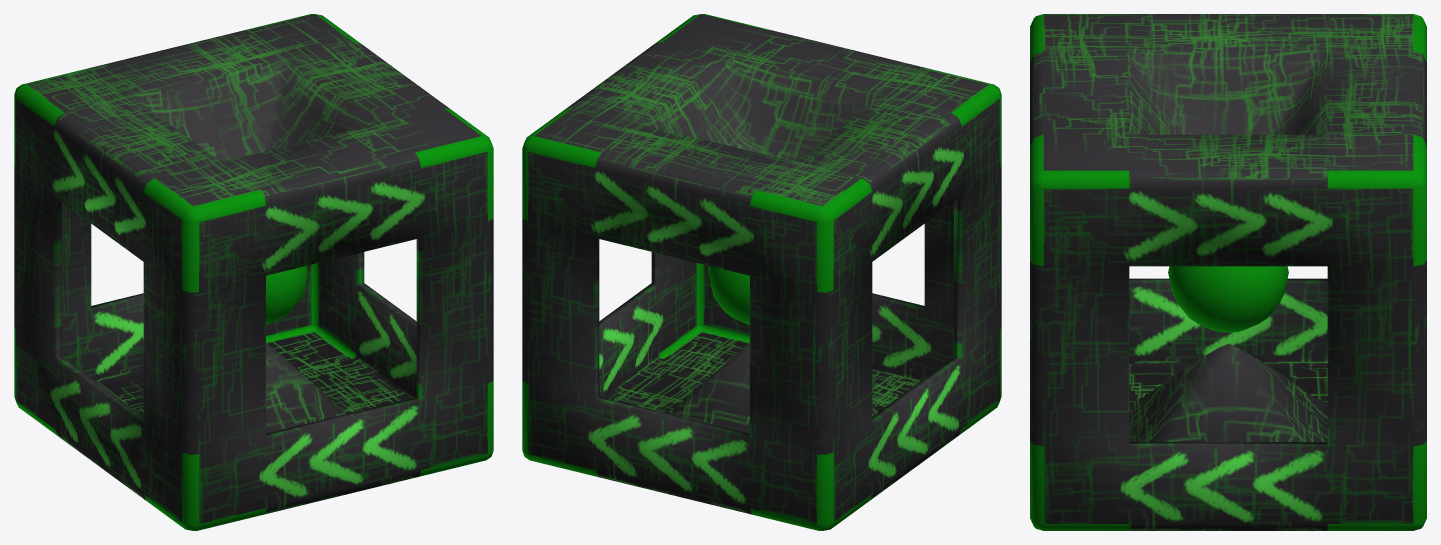
File: Green_Cube 1.fbx
The picture shows the model from 3 angles, left to right: view 1: azimuth 30°, elevation 25°; view 2: azimuth 150°, elevation 25°; view 3: azimuth 270°, elevation 25°; orthographic projection. The views are drawn at different scales.
Parts seen in each view (by area): view 1: Green_cube.001, Green_cube; view 2: Green_cube.001, Green_cube; view 3: Green_cube.001, Green_cube.
Part boxes in pixels (box(x1,y1,x2,y2)): Green_cube.001: box(14, 14, 493, 530); Green_cube: box(266, 266, 307, 324); Green_cube.001: box(522, 14, 1001, 530); Green_cube: box(708, 266, 749, 324); Green_cube.001: box(1030, 14, 1426, 530); Green_cube: box(1168, 266, 1288, 332).
Bounding box in the file's own units: 200 × 200 × 200.
